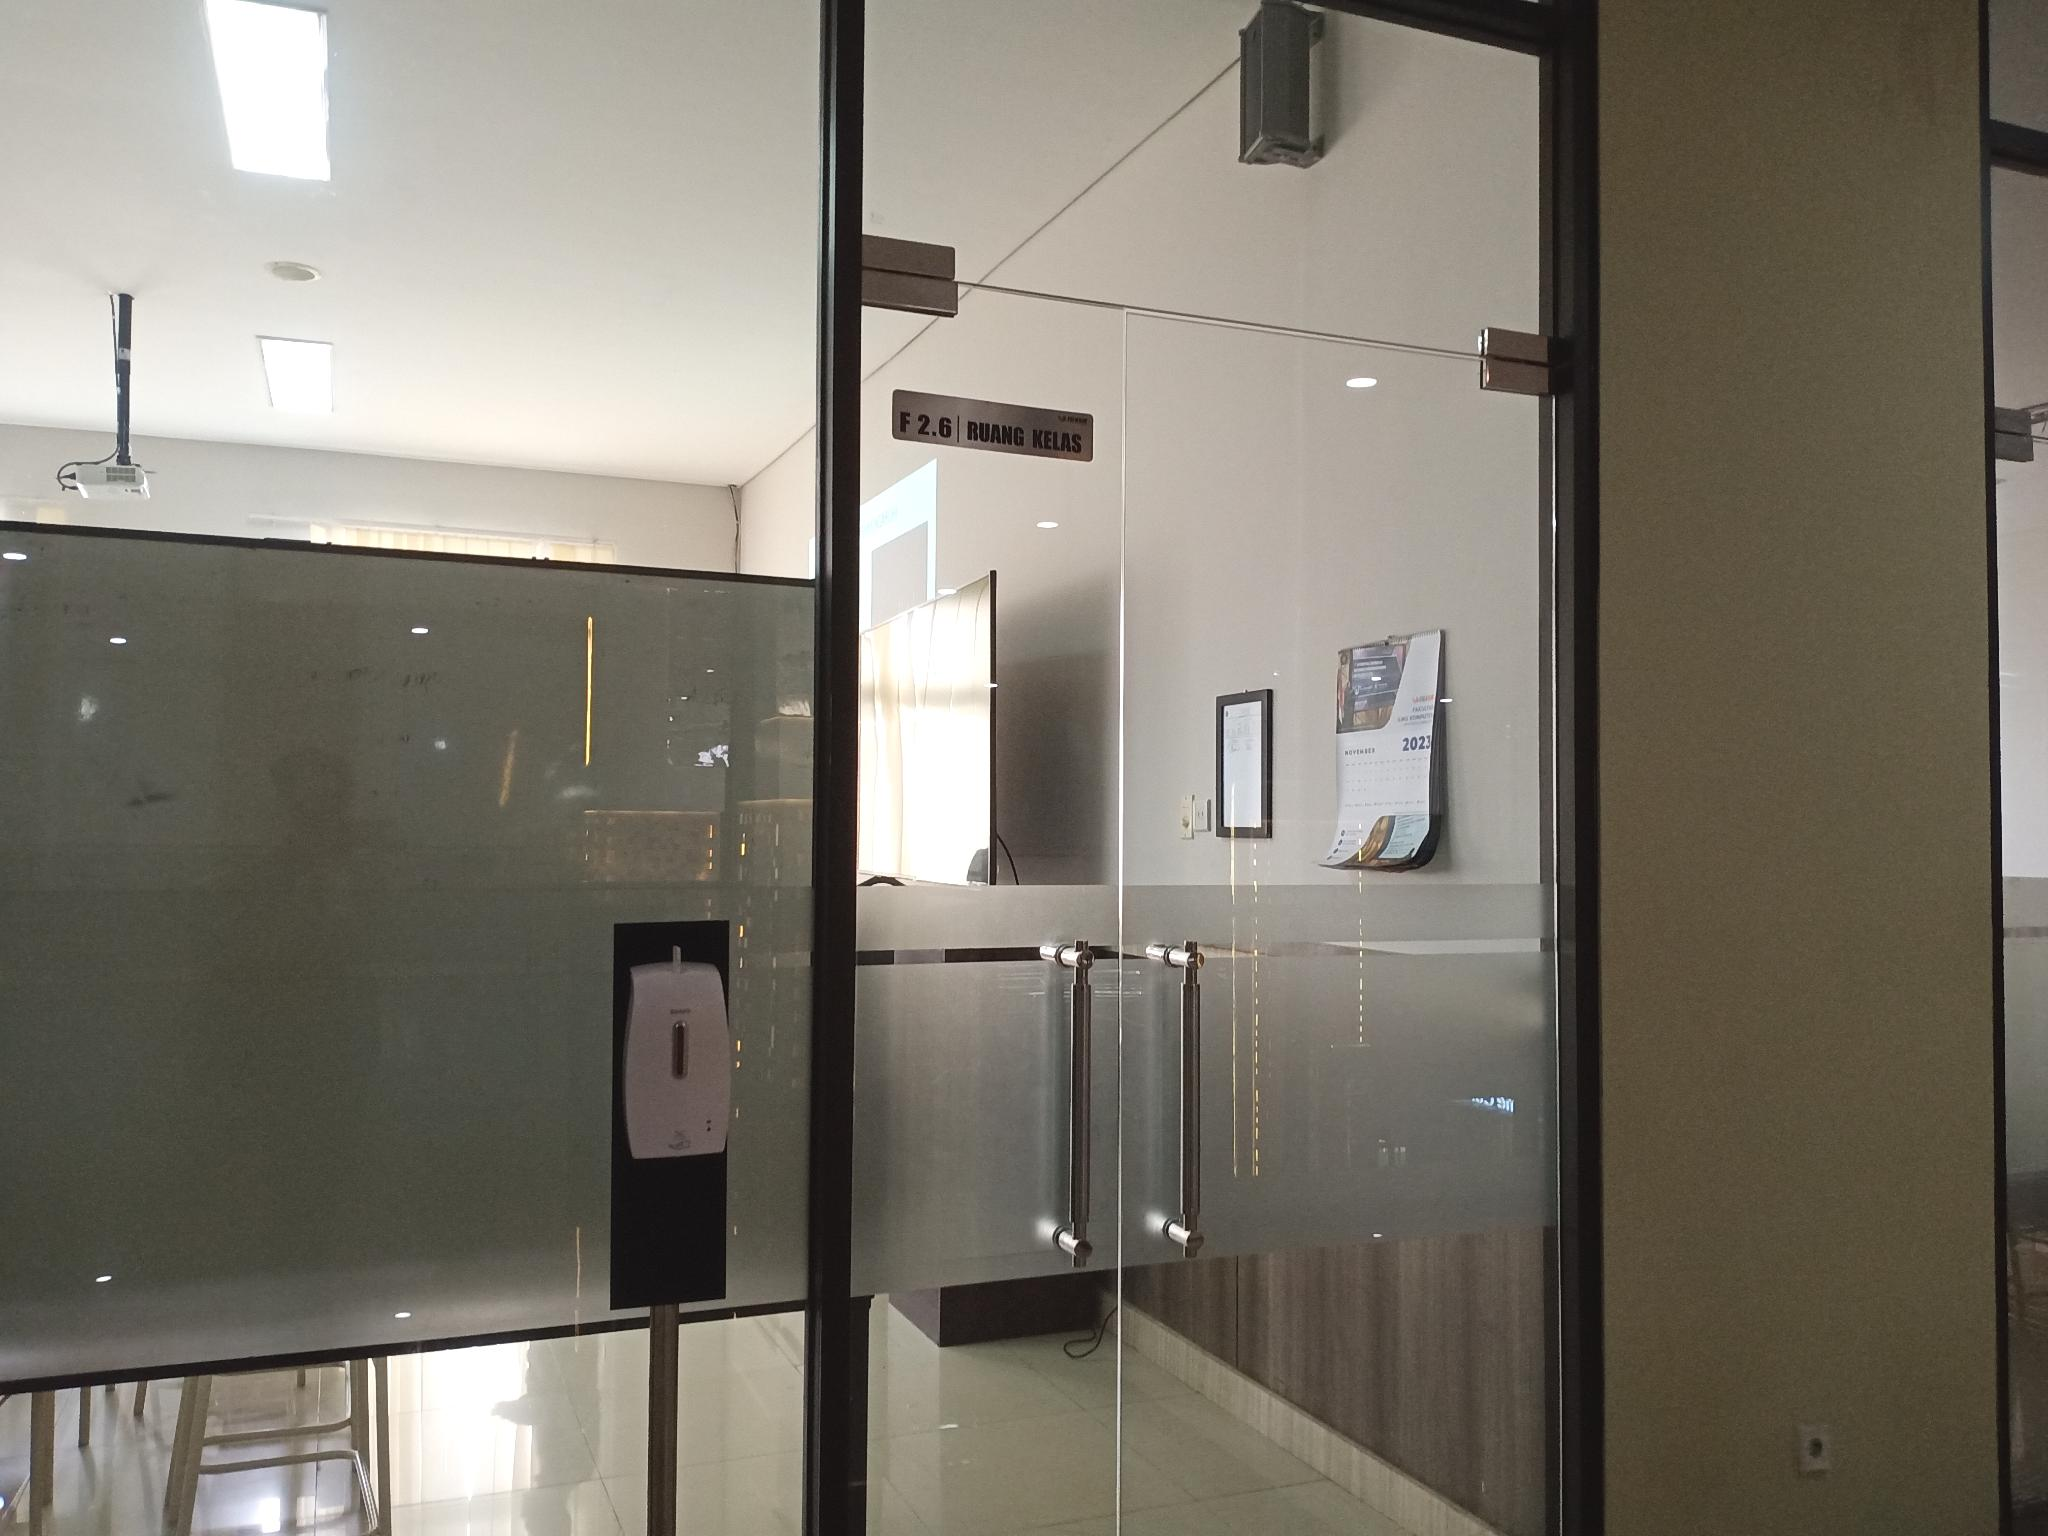plate: (890, 387, 1095, 465)
